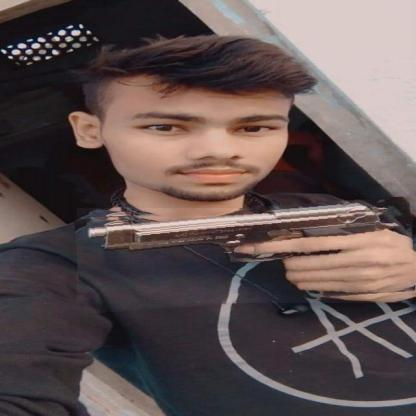handgun: (75, 202, 414, 309)
